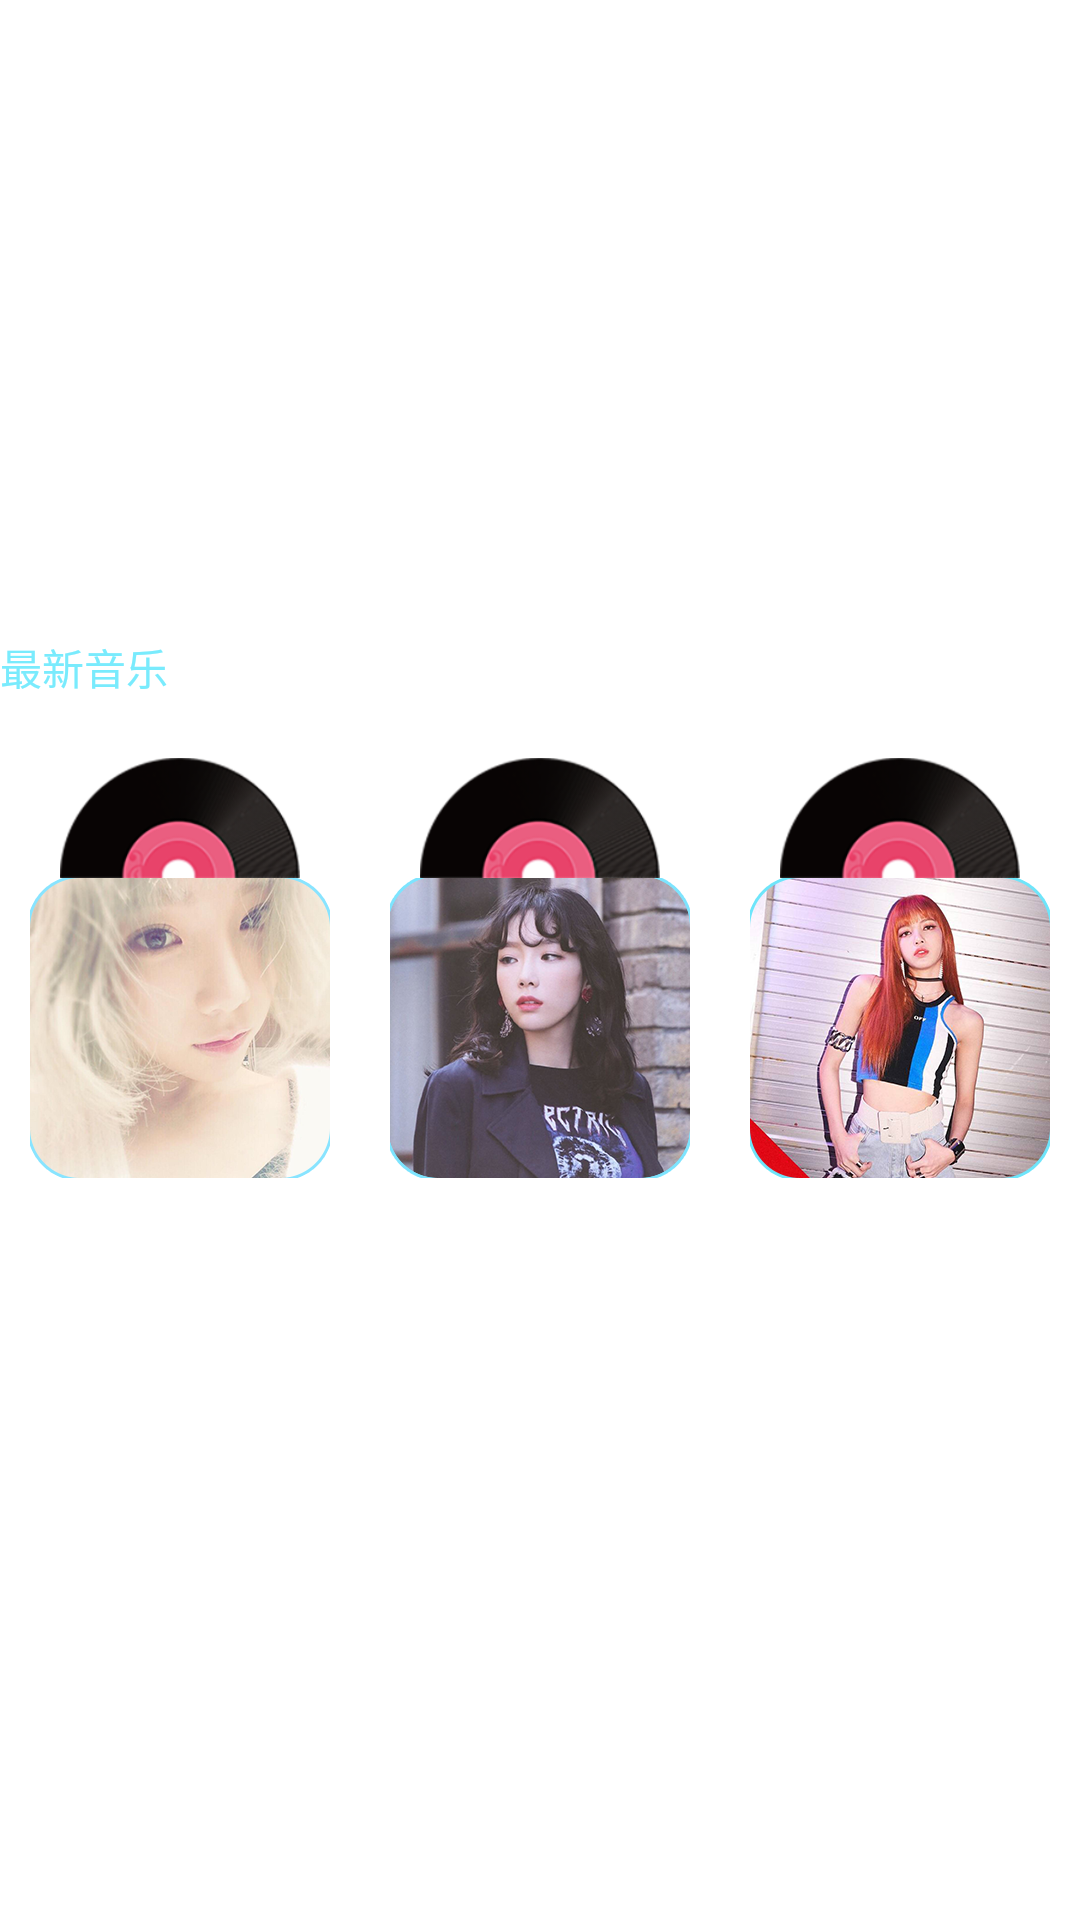

Point at icon controls on the screen. Image size 1080 × 1920, points as point (x, y).
zhuanji: point (180, 818), point (540, 818), point (900, 818), point (180, 1028), point (540, 1028), point (900, 1028)
